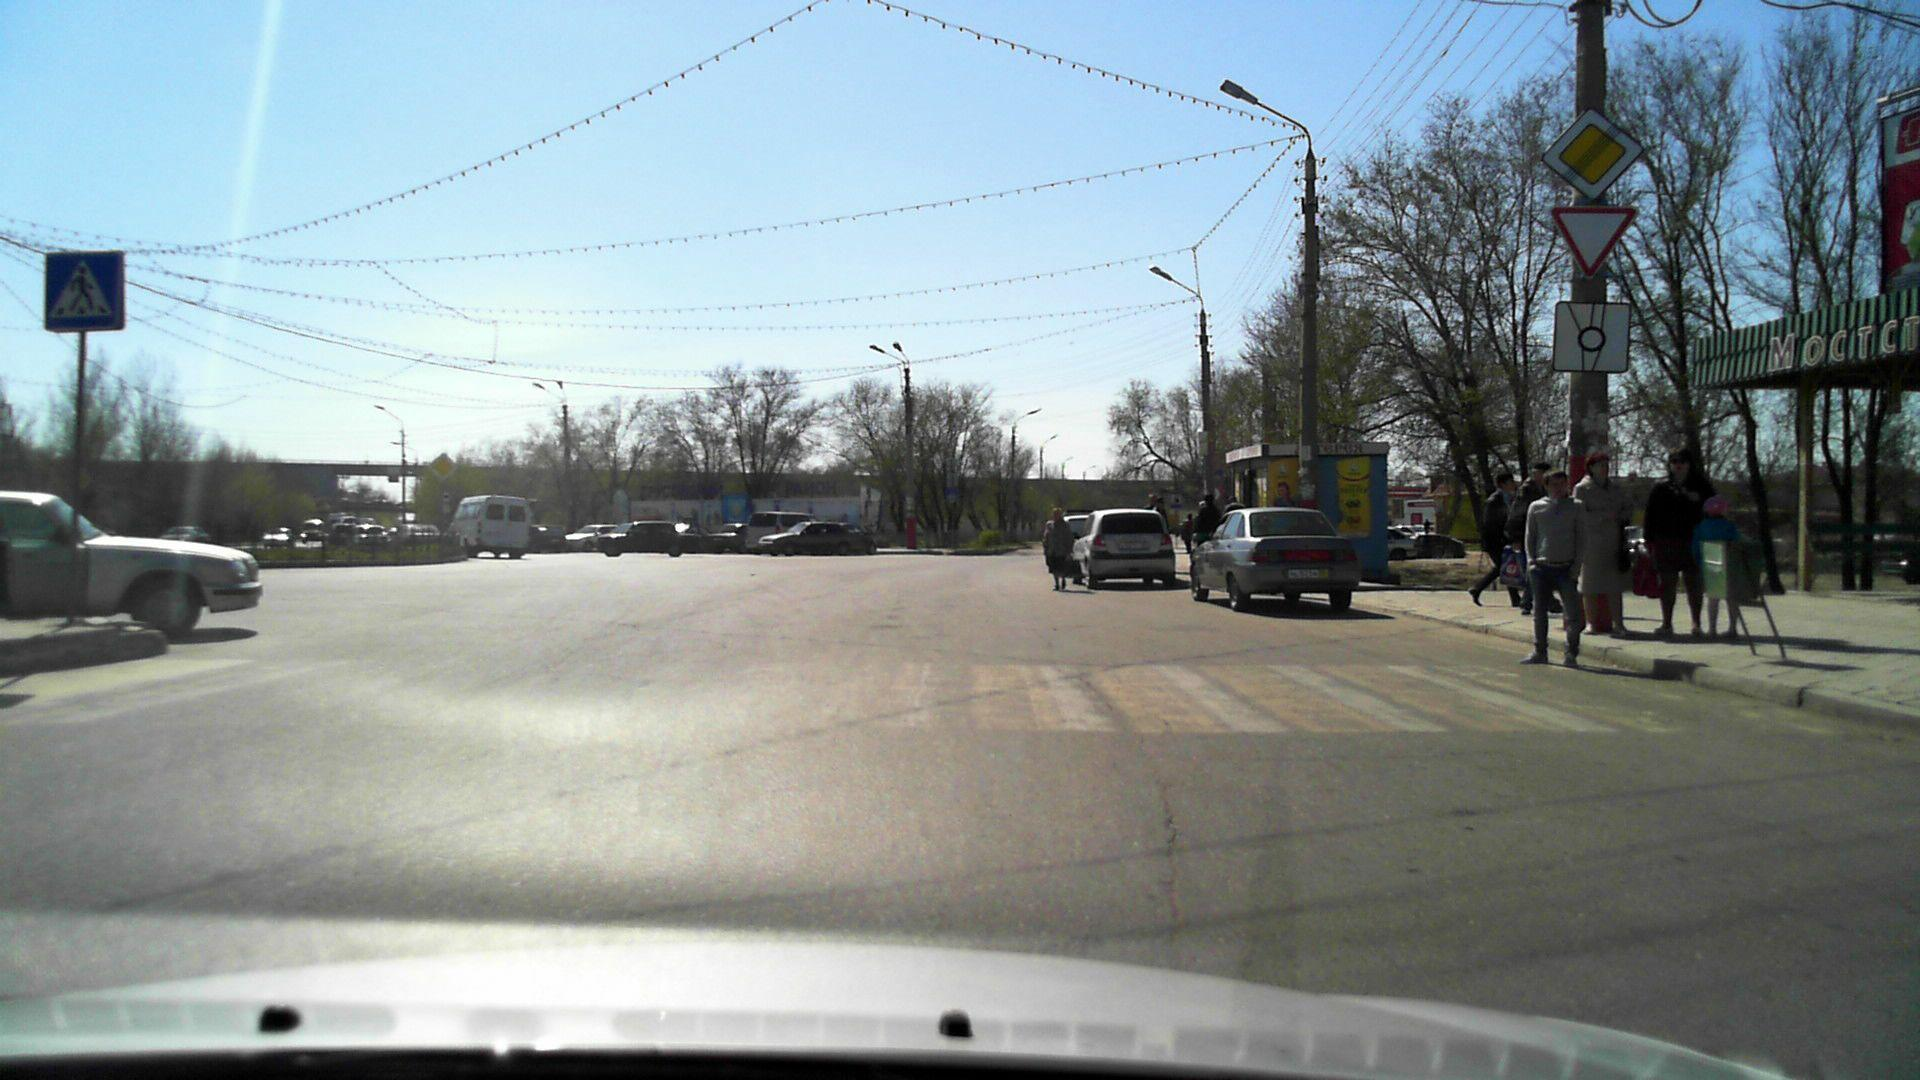2_1: (430, 450, 456, 483)
2_2: (1544, 108, 1638, 196)
2_4: (1538, 200, 1636, 284)
5_19_2: (42, 247, 127, 338)
8_13: (1548, 301, 1635, 378)
